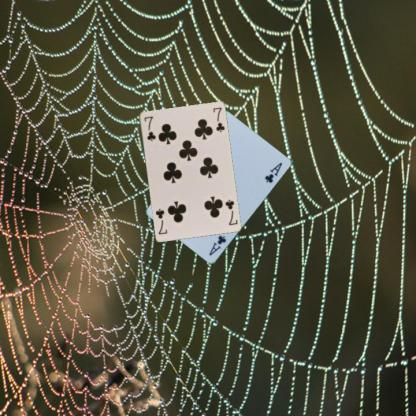7c: (222, 196, 238, 226), (142, 113, 156, 142)
Ac: (206, 233, 228, 257)
